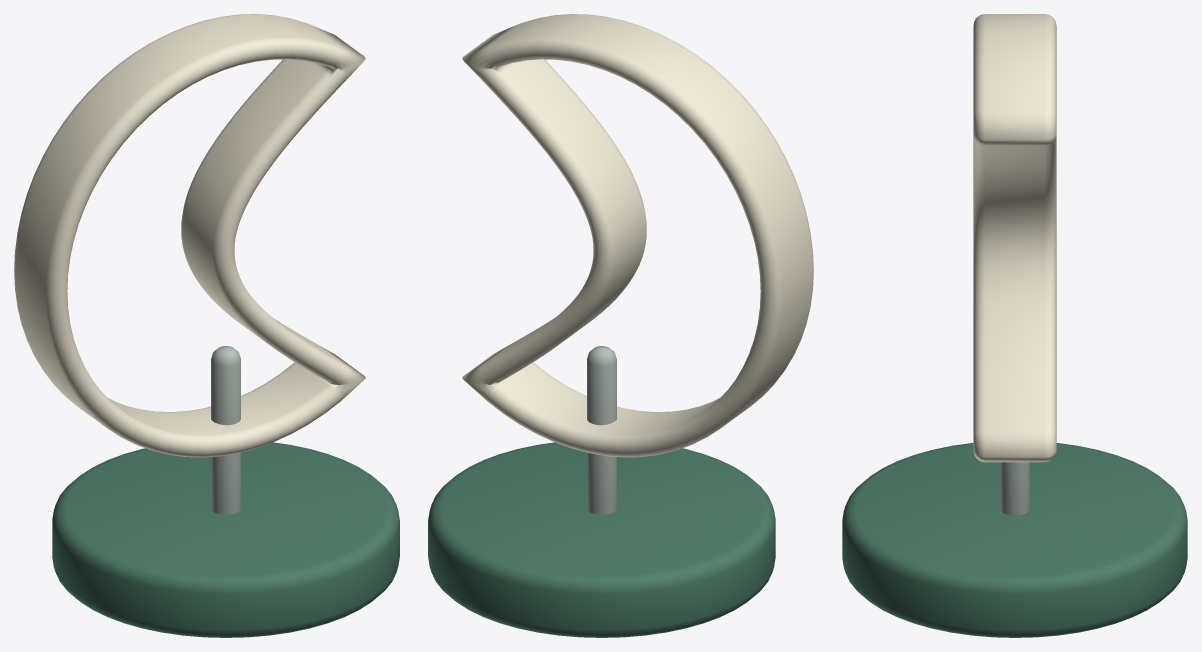
The model's file is moon.glb.
3 views of the same model, side by side, from view 1: azimuth 30°, elevation 25°; view 2: azimuth 150°, elevation 25°; view 3: azimuth 270°, elevation 25° (orthographic).
Parts seen in each view (by area): view 1: Moon crescent, Pedestal, Stem; view 2: Moon crescent, Pedestal, Stem; view 3: Pedestal, Moon crescent, Stem.
Boxes of the visible parts, x1,y1,x2,y2 form: Moon crescent: (14, 14, 365, 457); Pedestal: (52, 442, 399, 637); Stem: (211, 346, 240, 514); Moon crescent: (462, 14, 813, 457); Pedestal: (428, 442, 775, 637); Stem: (587, 346, 616, 514); Pedestal: (842, 443, 1187, 637); Moon crescent: (973, 14, 1056, 462); Stem: (1000, 462, 1029, 515).
Bounding box in the file's own units: 1.2 × 1.77 × 1.04.
